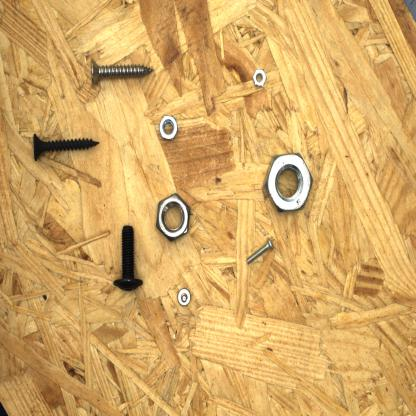screw: (112, 224, 145, 294), (88, 55, 155, 88), (31, 131, 100, 162), (244, 236, 276, 268)
